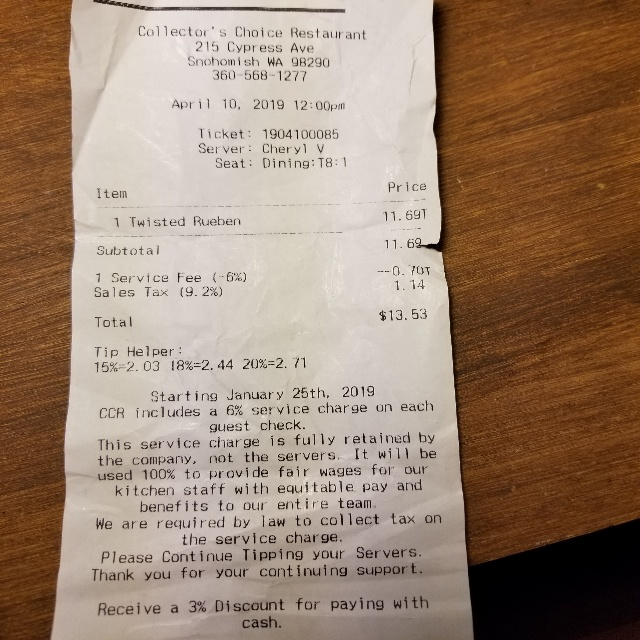invoice_table: (110, 209, 429, 229)
invoice_title: (133, 22, 368, 80)
invoice_total: (92, 309, 428, 328)
